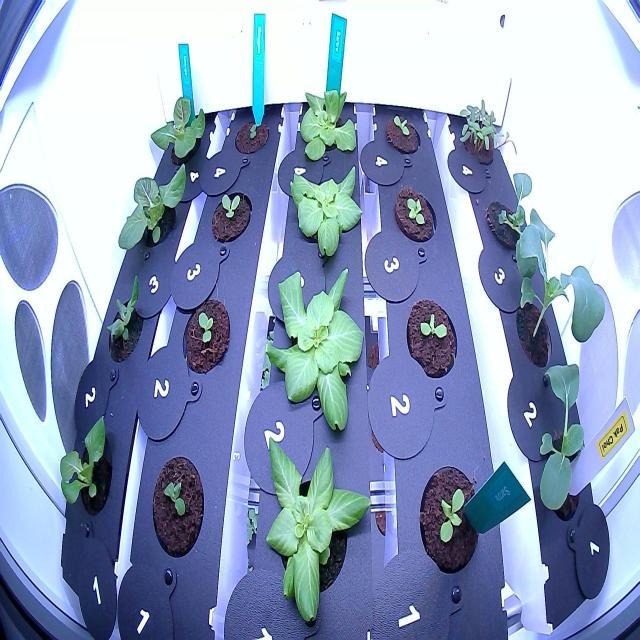germination: (146, 446, 209, 568), (402, 289, 466, 386), (178, 287, 234, 383), (206, 180, 256, 250), (378, 104, 426, 162), (229, 108, 274, 161)
young: (258, 430, 379, 635), (257, 257, 373, 441), (278, 152, 370, 264), (412, 456, 486, 583), (111, 156, 193, 266), (53, 409, 119, 527), (293, 77, 367, 172), (147, 87, 210, 174), (98, 266, 146, 368), (387, 179, 441, 252)
